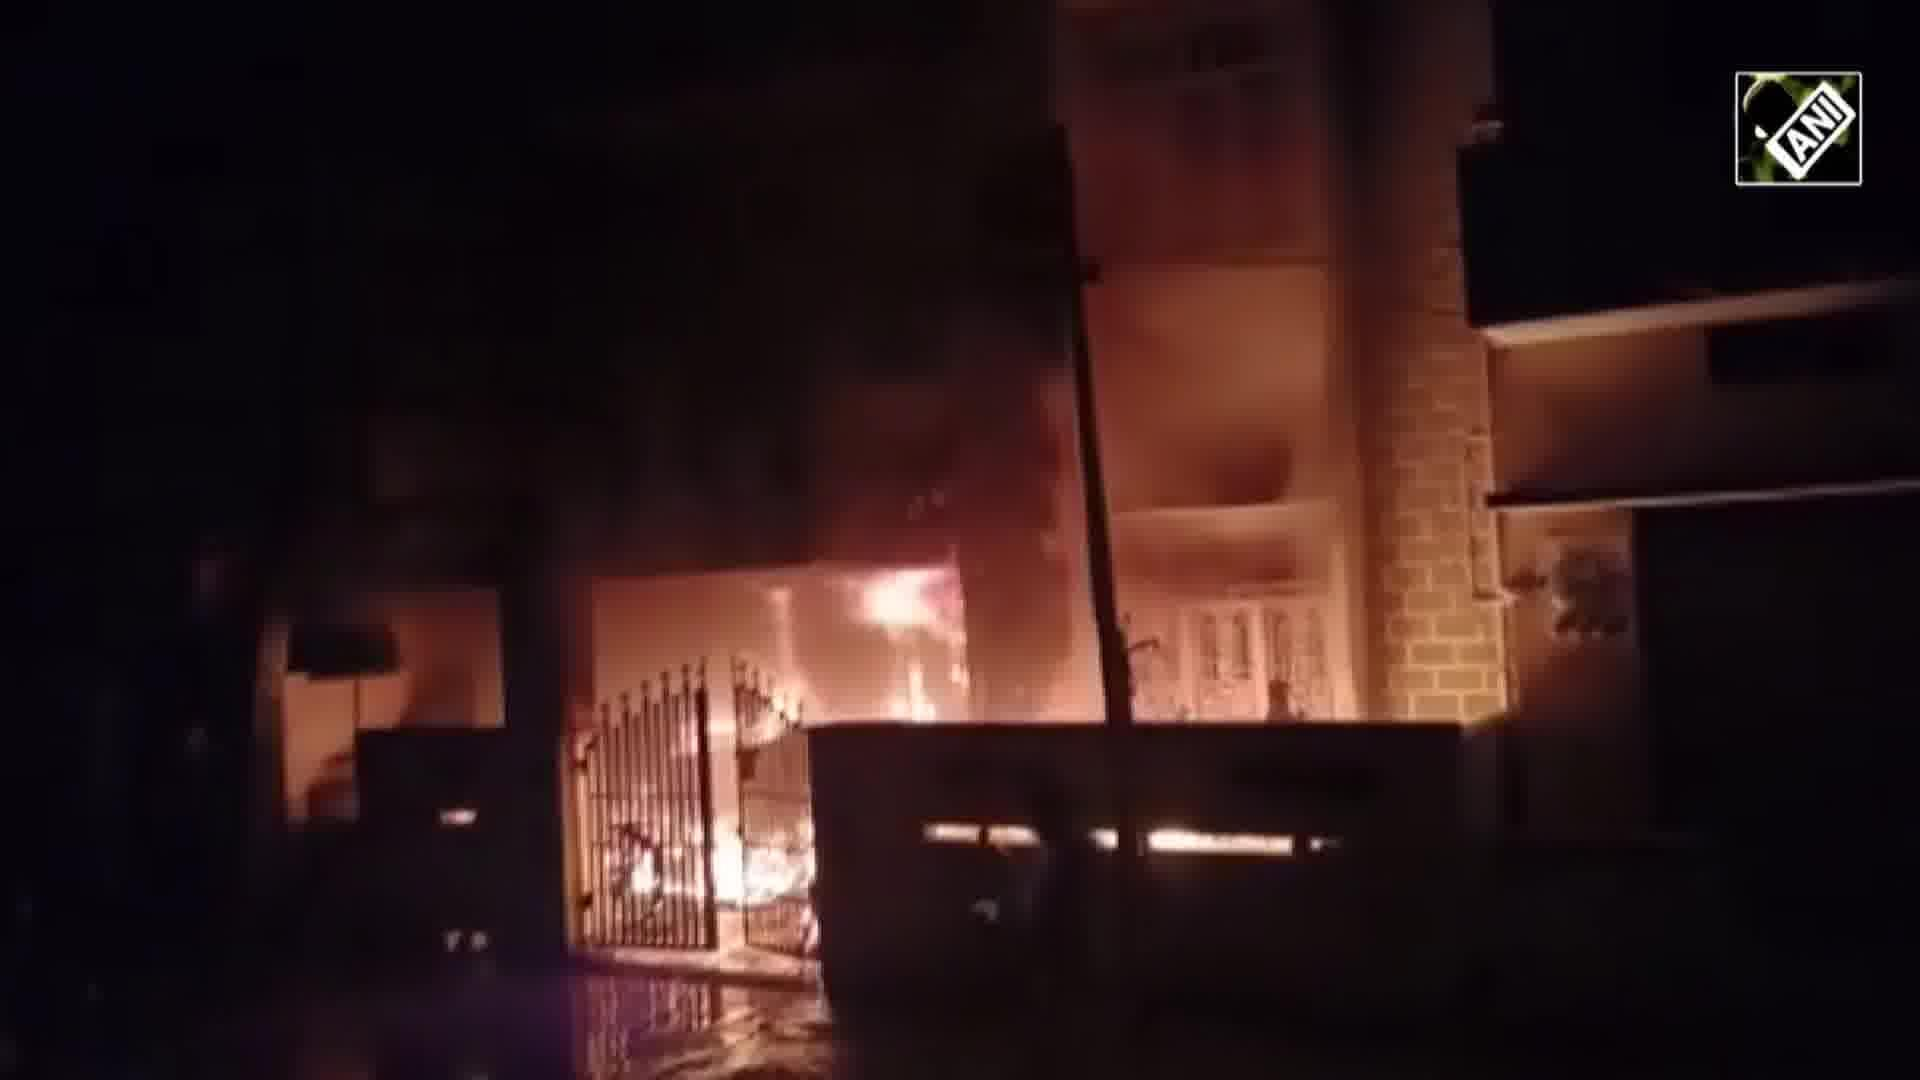fire: (676, 829, 774, 909), (858, 574, 934, 636)
